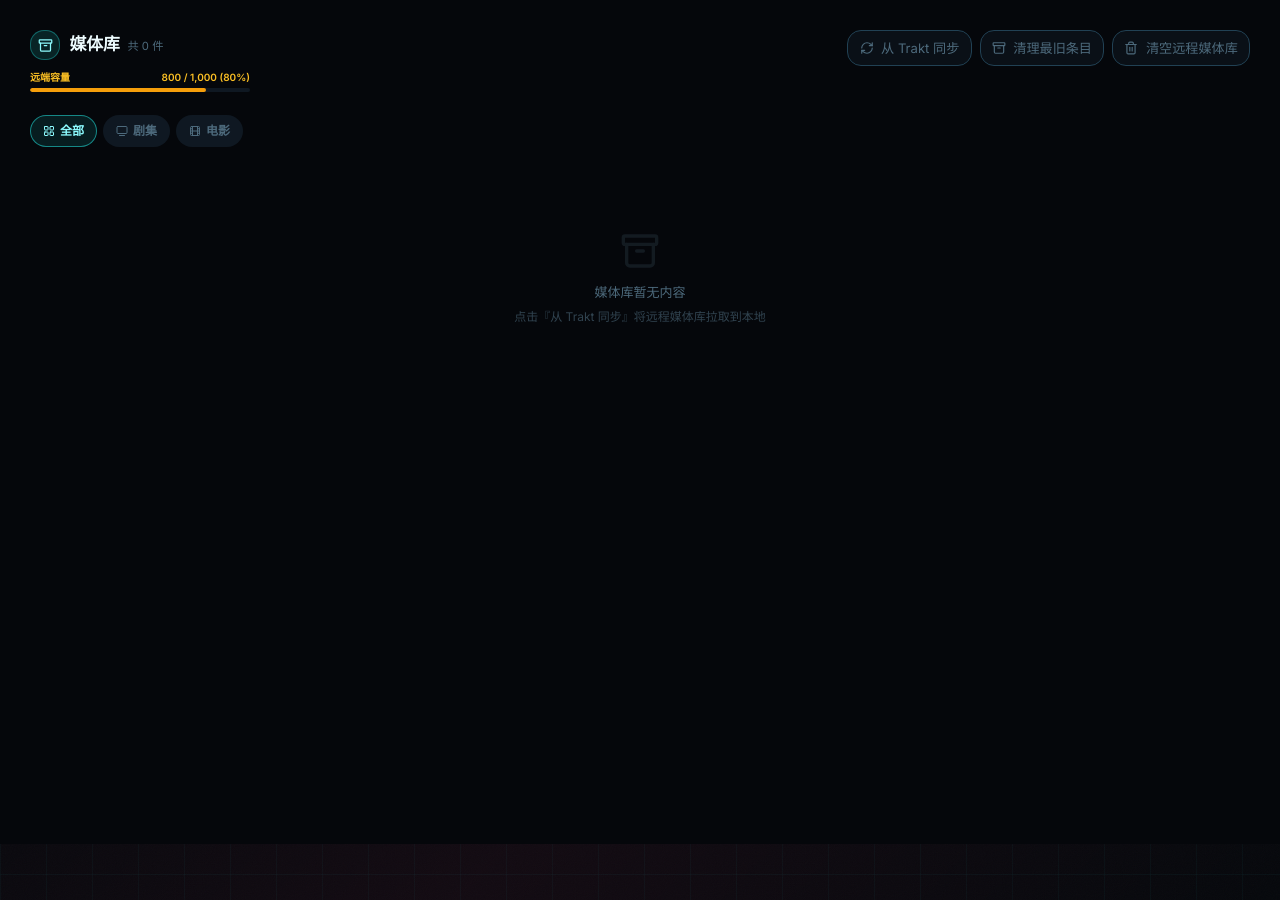
Test: CollectionPage › prune remote flow › opens and cancels the prune confirmation
Click the button titled "清理最旧条目": (1042, 48) [980,30,1104,66]
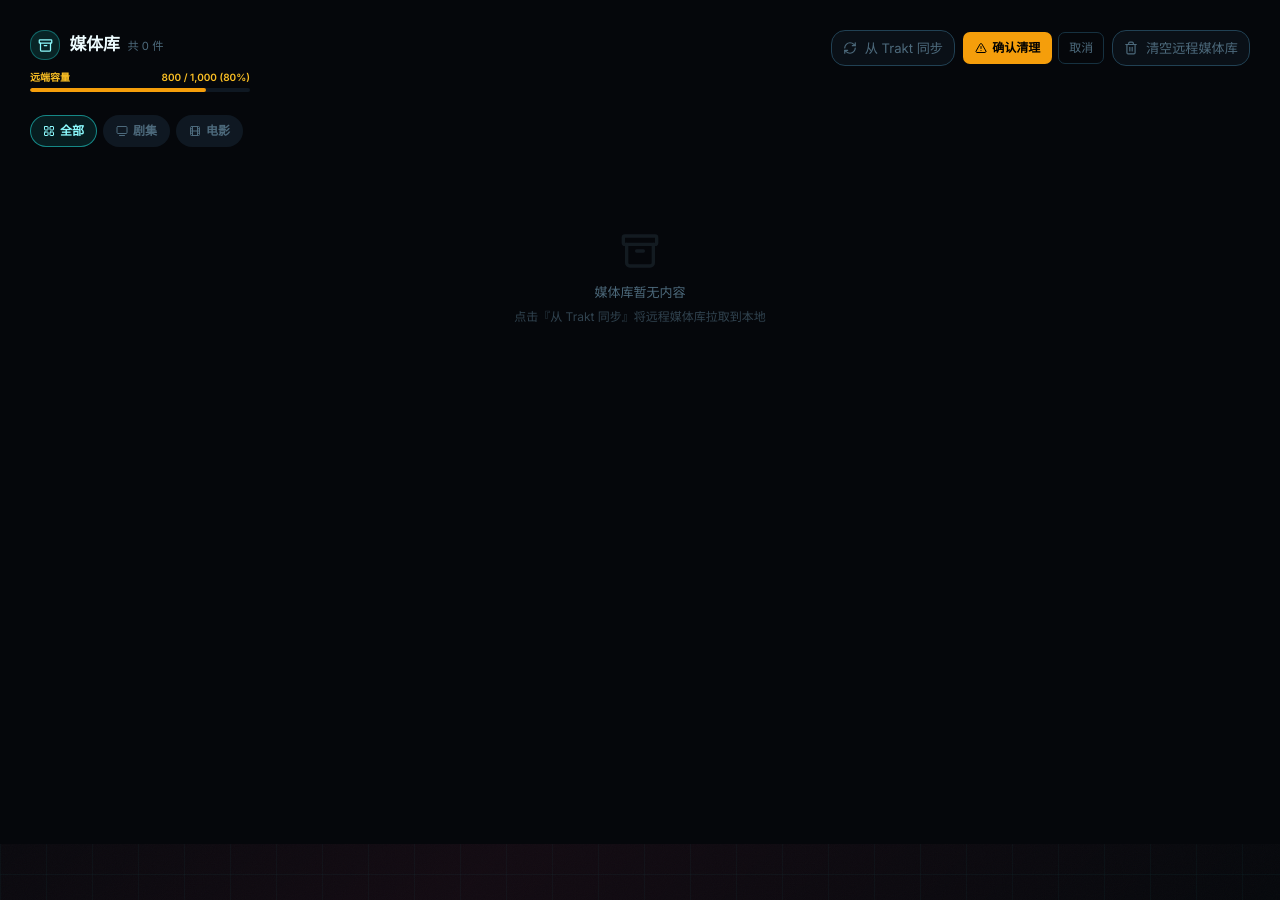
expect the button "确认清理" is shown: met, box [963,32,1052,64]
Click the button "取消": (1081, 48) [1058,32,1104,64]
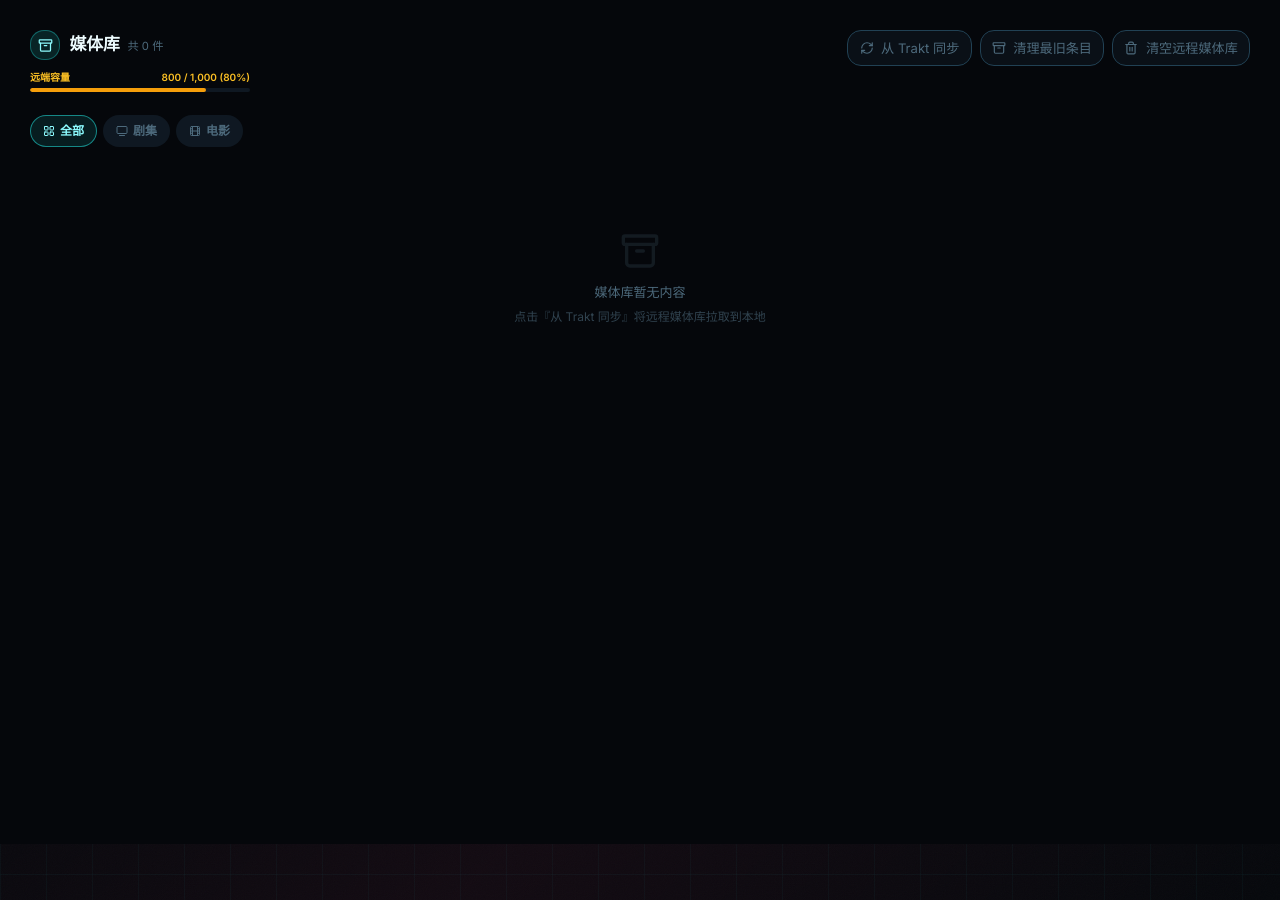
expect the button "确认清理" is gone: met
